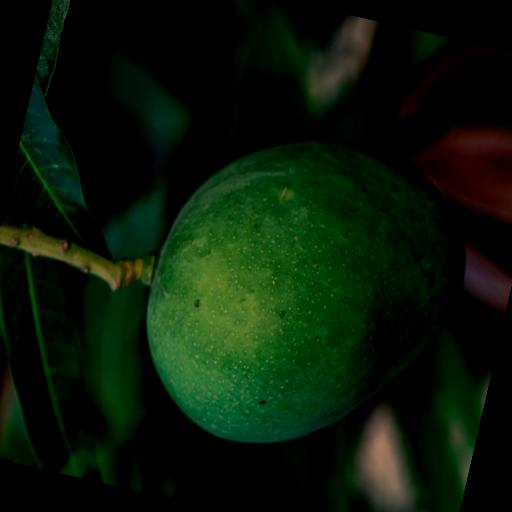Mango-Detection: (61, 55, 512, 512)
